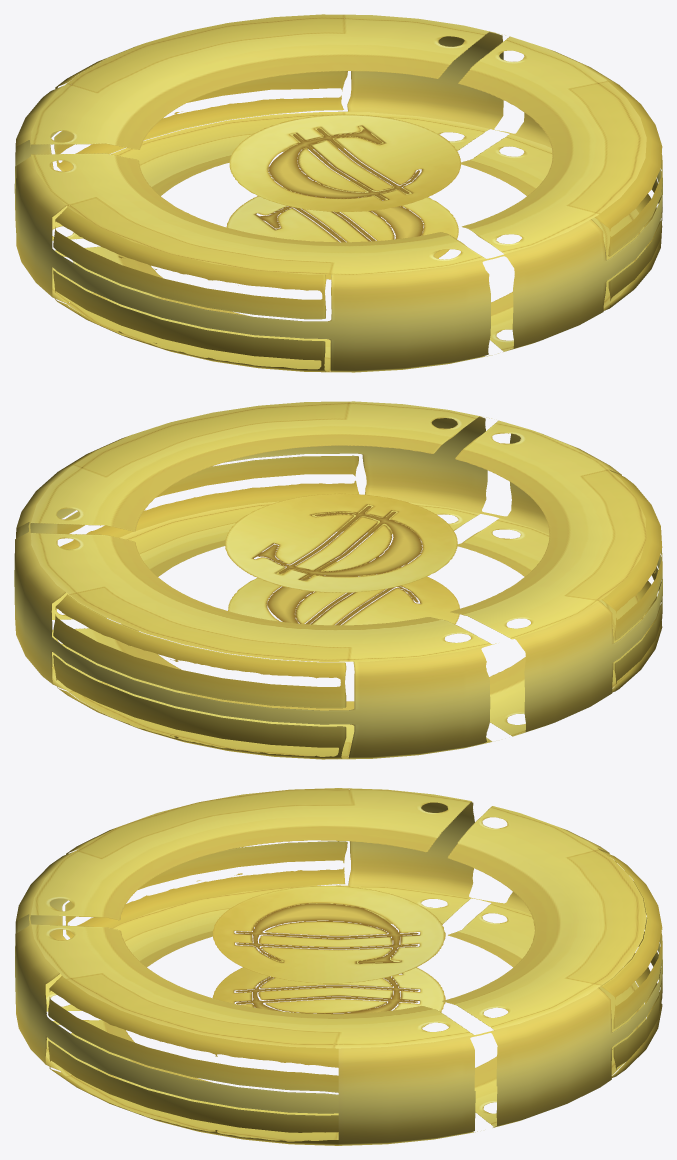
Rendered from Coin_L.FBX.
3 renders of one model, top to bottom at view 1: azimuth 30°, elevation 25°; view 2: azimuth 150°, elevation 25°; view 3: azimuth 270°, elevation 25°, orthographic.
Visible parts, largest first — view 1: LargeCoin; view 2: LargeCoin; view 3: LargeCoin.
Part boxes in pixels (x1=…): LargeCoin: x1=14, y1=14, x2=662, y2=372; LargeCoin: x1=14, y1=401, x2=662, y2=759; LargeCoin: x1=15, y1=788, x2=662, y2=1145.
Bounding box in the file's own units: 48.06 × 7.96 × 48.06.
